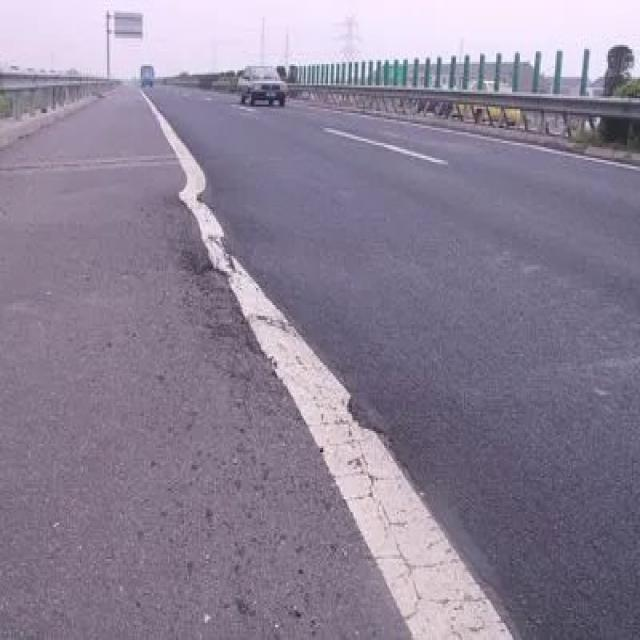Pothole: (164, 179, 290, 380)
